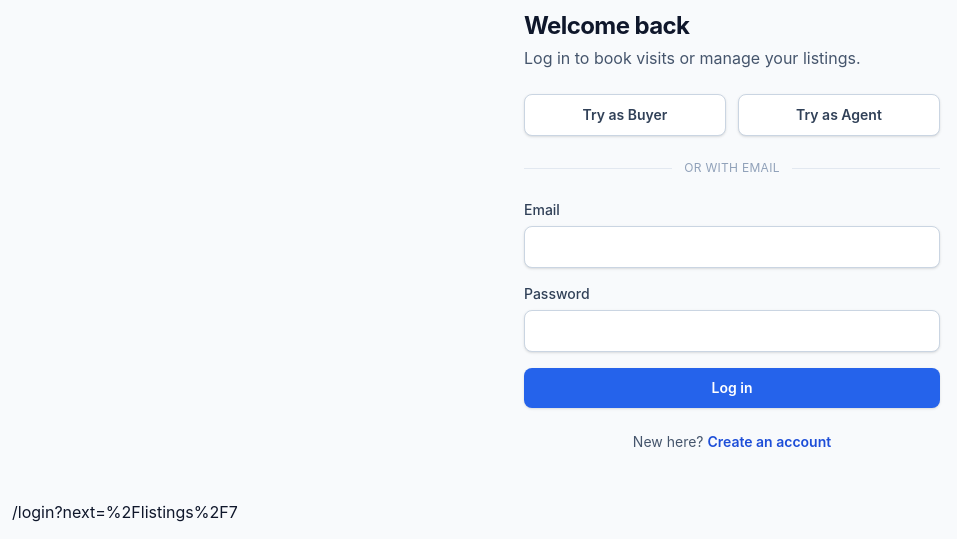
<LoginPage> › returns to ?next after login, but only for same-site paths
What coordinates should you click on to do the following:
click the button "Try as Buyer"
I would click on:
 (625, 115)
Its box is 524,94 -> 726,136.
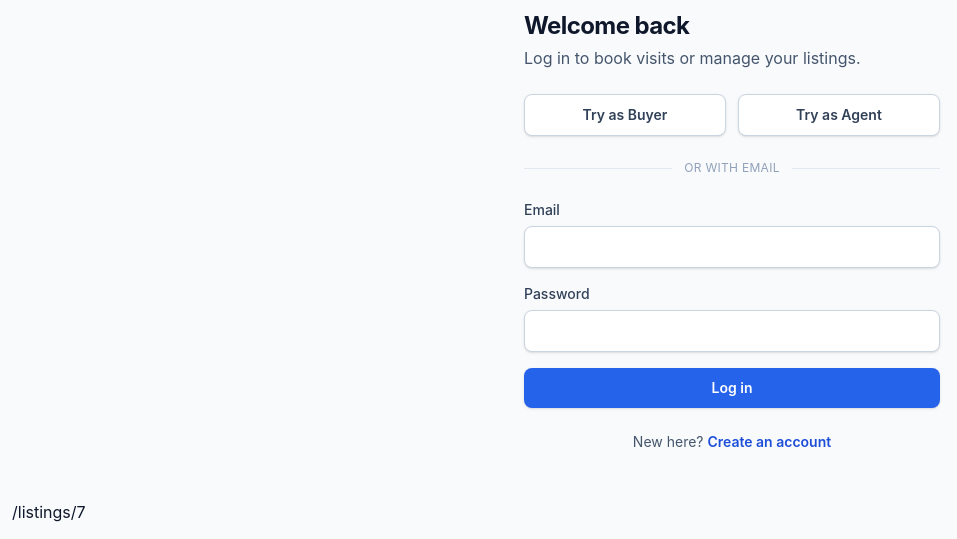
Expected: the text with test id "location" reads "/listings/7", 12,502 -> 86,522
